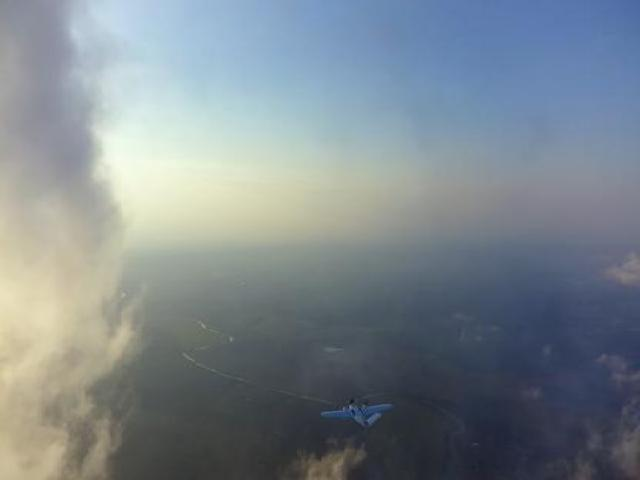uav: (319, 394, 395, 432)
